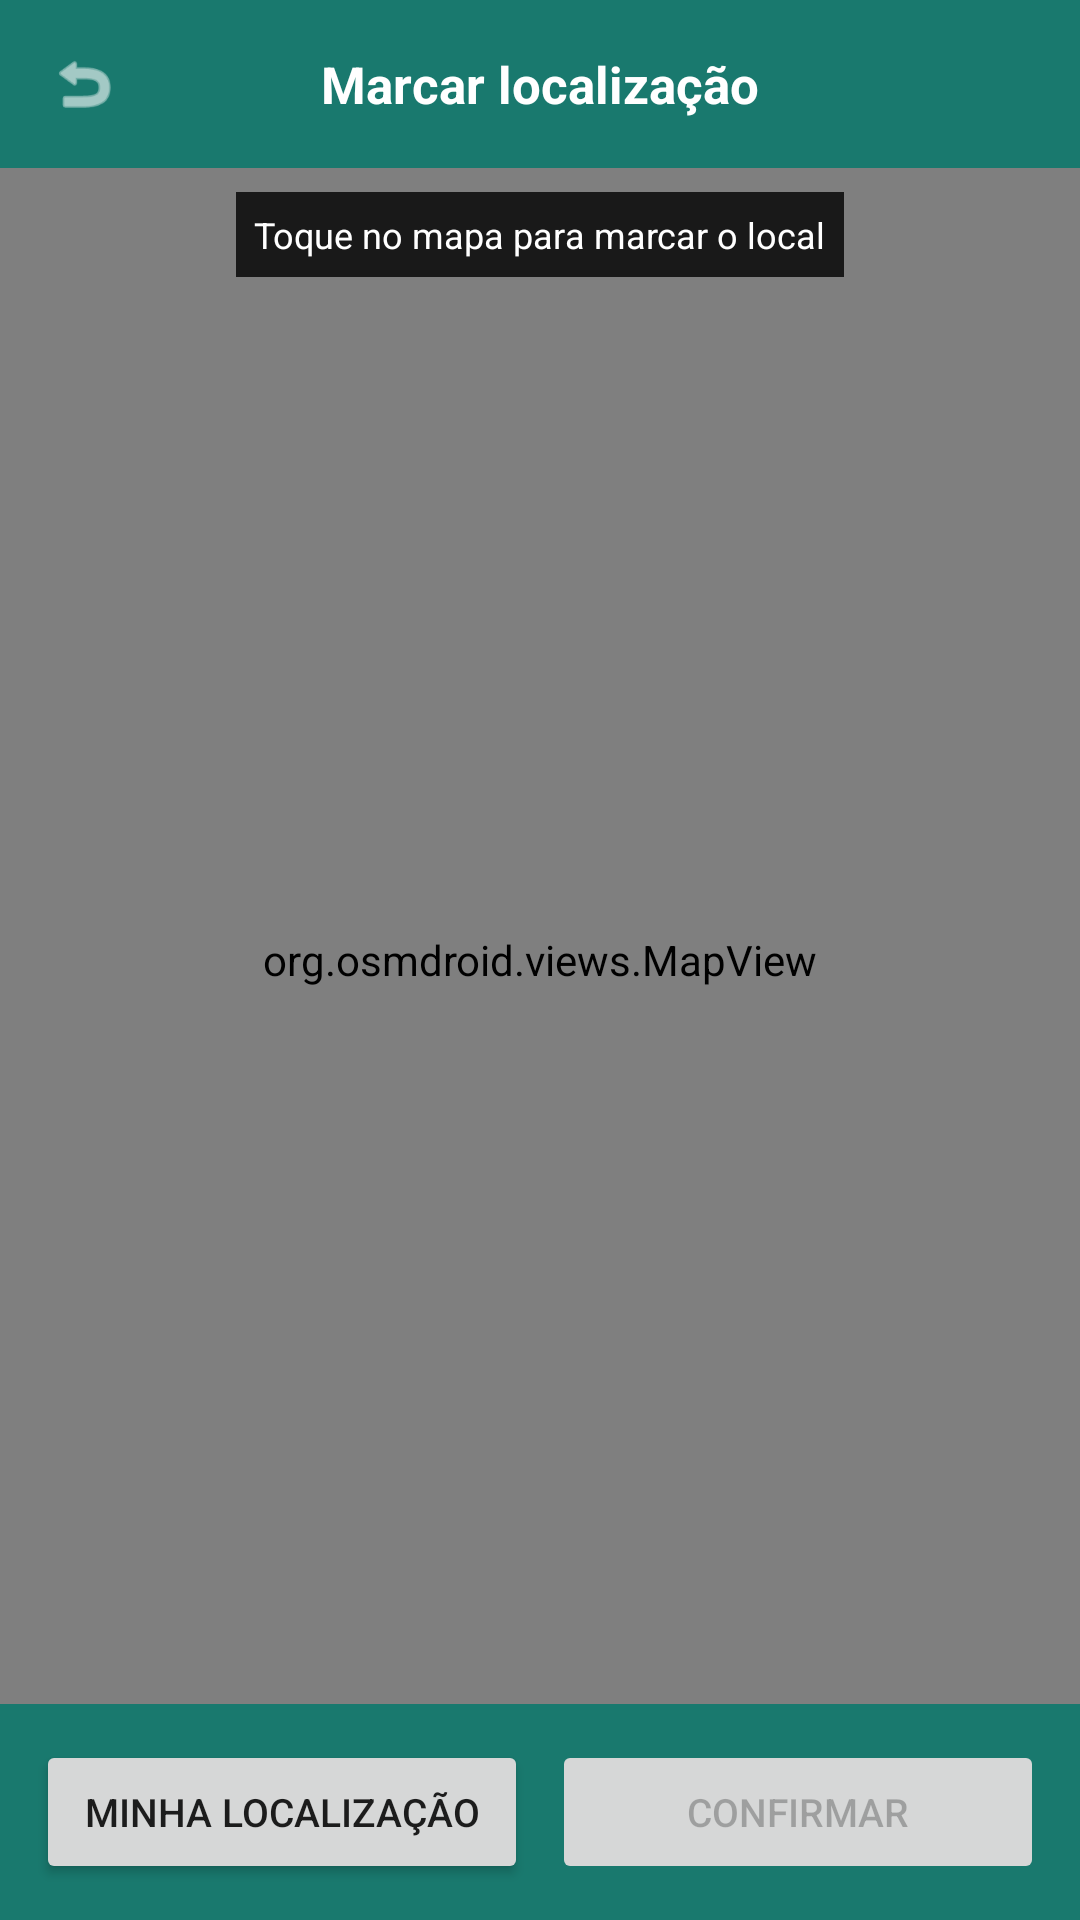

Icons on this 1080 × 1920 Android screen, each with the point to tap as (x=x, y=y):
Voltar: (x=85, y=84)
